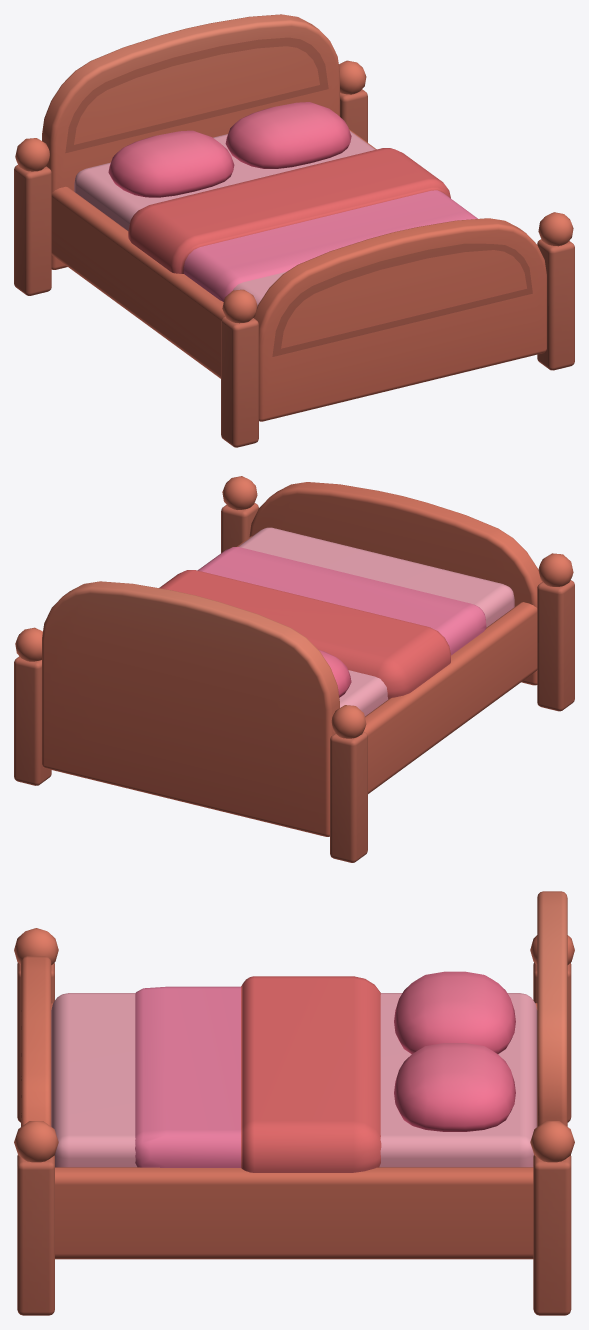
Rendered from Bed_08.glb.
3 views of the same model, one above another, from view 1: azimuth 30°, elevation 25°; view 2: azimuth 150°, elevation 25°; view 3: azimuth 270°, elevation 25° (orthographic). The views are drawn at different scales.
Parts seen in each view (by area): view 1: Bed_08; view 2: Bed_08; view 3: Bed_08.
Boxes of the visible parts, x1=… form: Bed_08: x1=14, y1=14, x2=574, y2=447; Bed_08: x1=14, y1=476, x2=574, y2=862; Bed_08: x1=14, y1=891, x2=574, y2=1315.
Bounding box in the file's own units: 1.97 × 1.2 × 2.22.
1 material, 1 textured.
